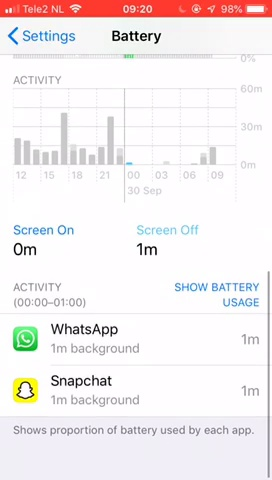activity: (4, 281, 98, 310)
app: (10, 324, 262, 356), (14, 376, 266, 408)
